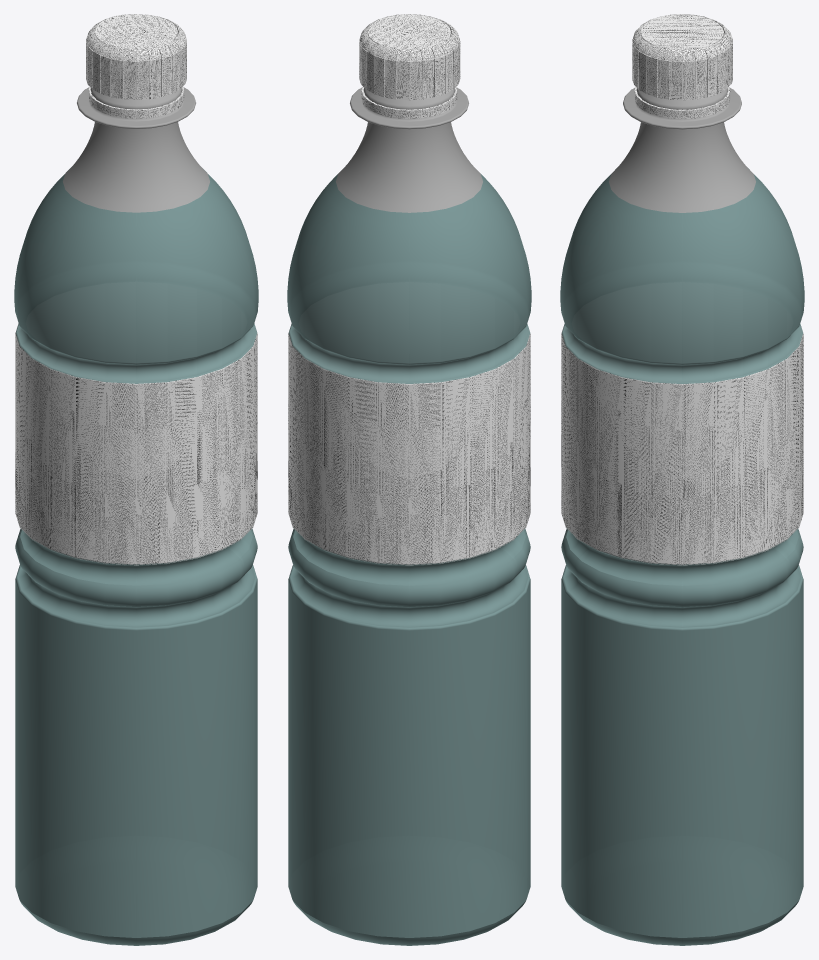
File: bottle_water.dae
3 views of the same model, side by side, from view 1: azimuth 30°, elevation 25°; view 2: azimuth 150°, elevation 25°; view 3: azimuth 270°, elevation 25° (orthographic).
Parts seen in each view (by area): view 1: SketchUp (×8); view 2: SketchUp (×8); view 3: SketchUp (×8).
Part boxes in pixels (<box>): SketchUp (×8): <box>14,14,258,945</box>; SketchUp (×8): <box>287,14,531,945</box>; SketchUp (×8): <box>560,14,804,945</box>.
Size of the model in its own units: 77.76 by 77.76 by 306.
